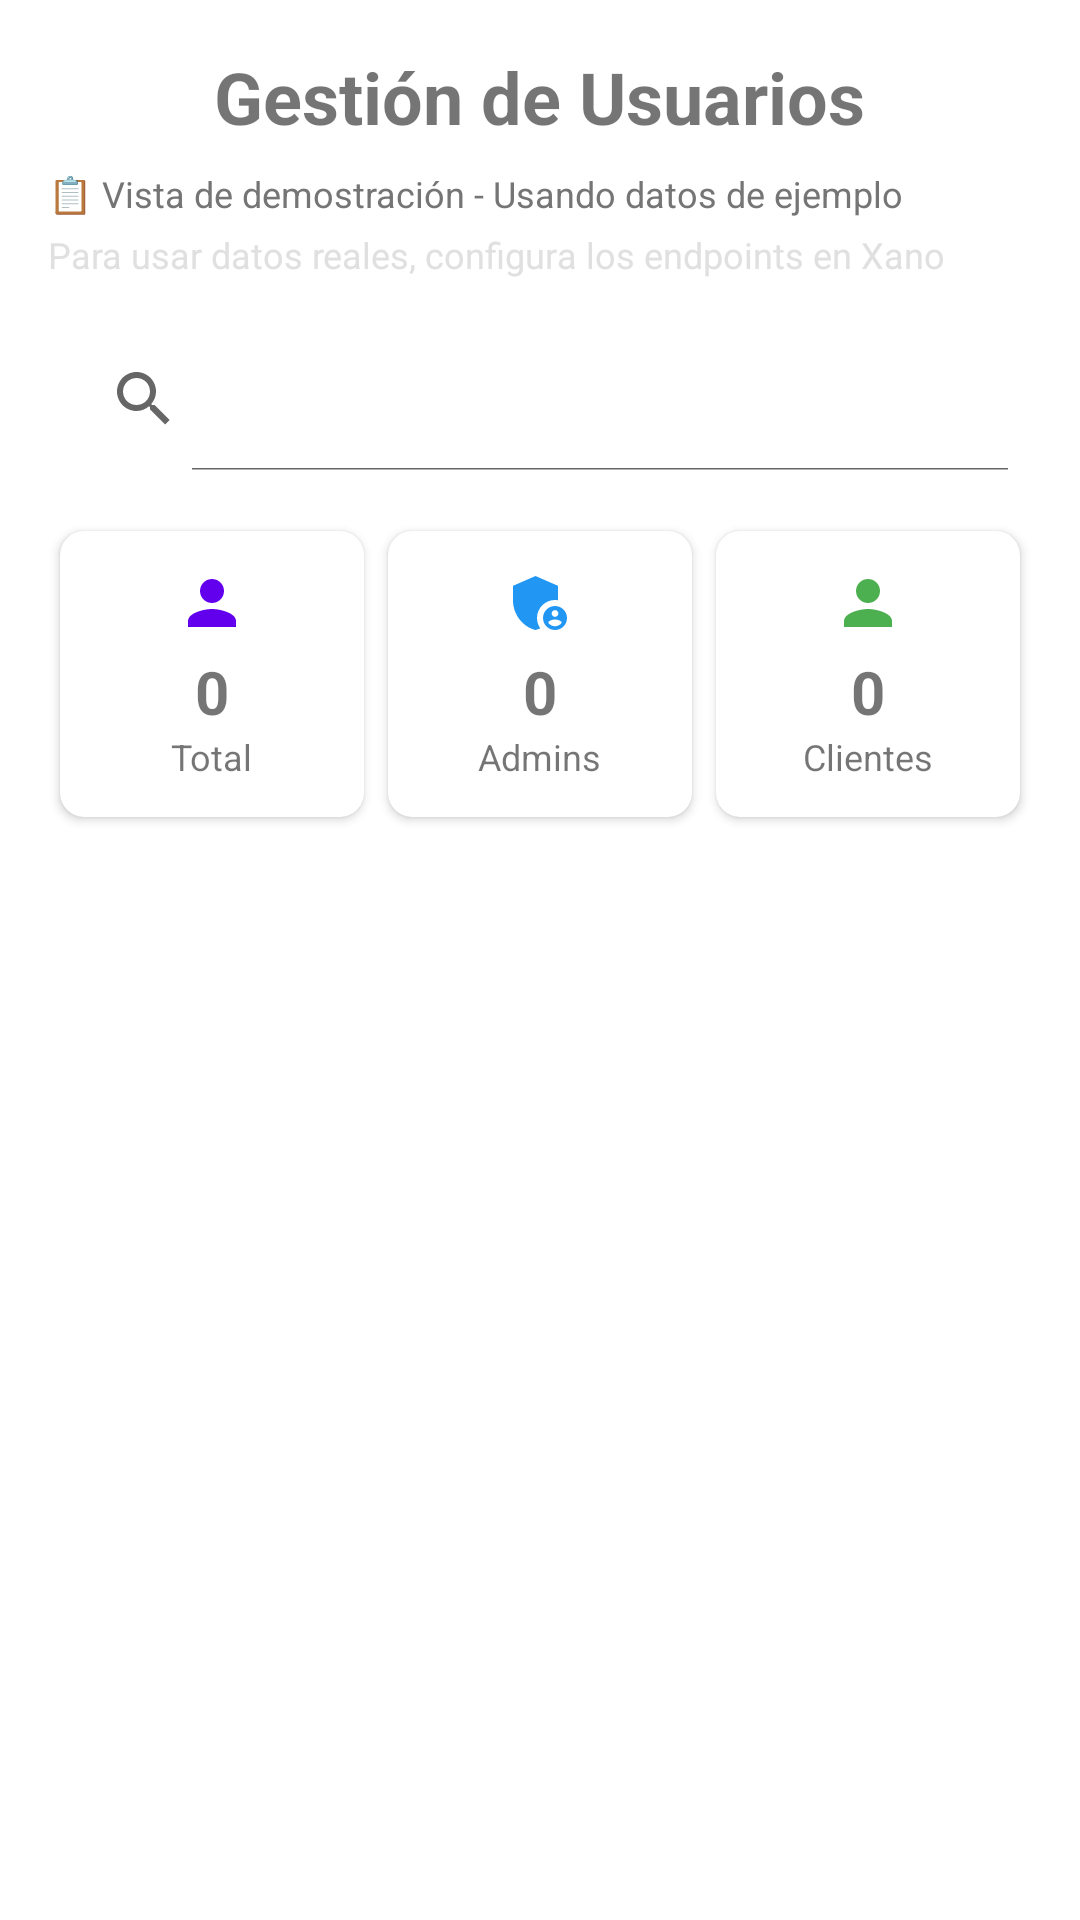

Icons on this 1080*1920 Android screen, each with its box as (x1, y1, x2, y2):
admin panel settings: (513, 576, 567, 630)
person: (188, 579, 236, 627), (844, 579, 892, 627)
